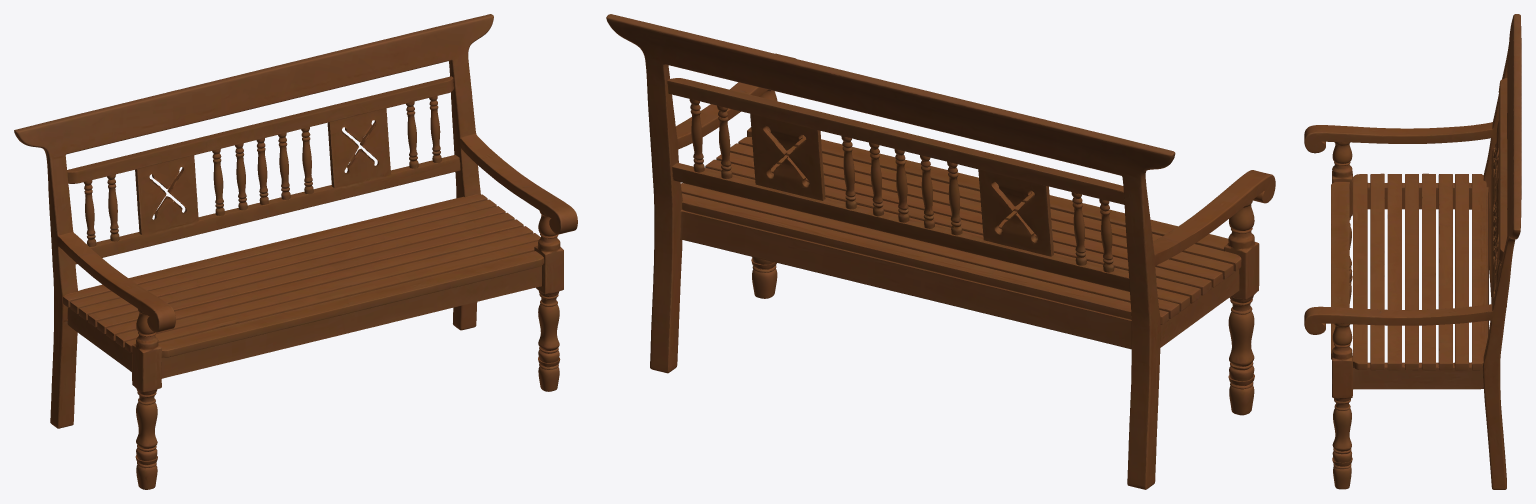
The model's file is bench.glb.
The picture shows the model from 3 angles, left to right: view 1: azimuth 30°, elevation 25°; view 2: azimuth 150°, elevation 25°; view 3: azimuth 270°, elevation 25°; orthographic projection. The views are drawn at different scales.
Parts seen in each view (by area): view 1: model; view 2: model; view 3: model.
Part boxes in pixels (<box>): model: <box>14,14,577,489</box>; model: <box>606,14,1275,489</box>; model: <box>1304,14,1521,489</box>.
Bounding box in the file's own units: 1.9 × 1.12 × 0.8062.
Materials: 1 (1 with a texture image).
